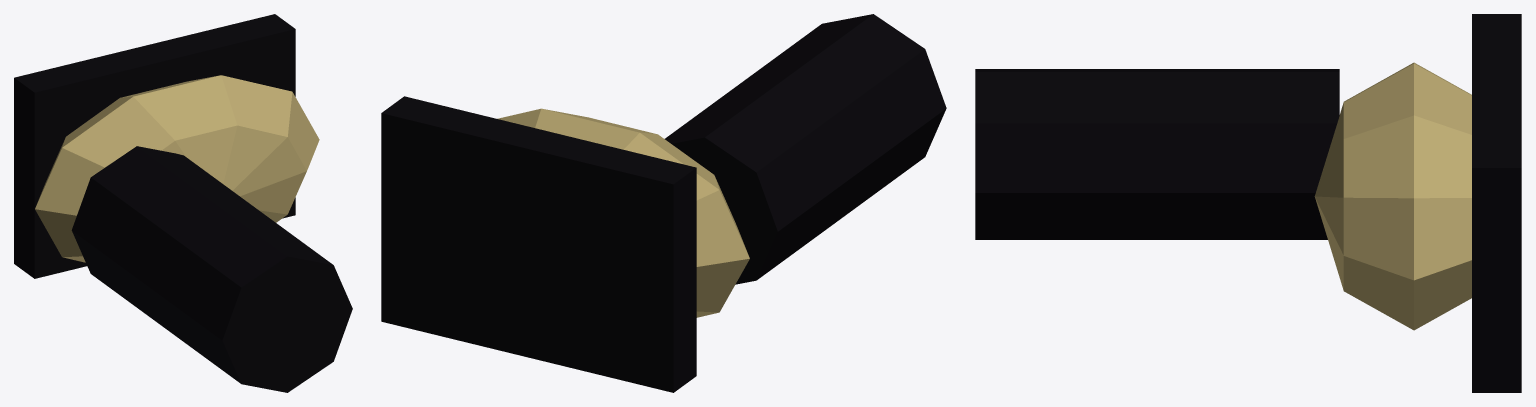
The model's file is Resident0LeftLeg.obj.
The picture shows the model from 3 angles, left to right: view 1: azimuth 30°, elevation 25°; view 2: azimuth 150°, elevation 25°; view 3: azimuth 270°, elevation 25°; orthographic projection. The views are drawn at different scales.
Parts seen in each view (by area): view 1: Resident0LeftLeg; view 2: Resident0LeftLeg; view 3: Resident0LeftLeg.
Part boxes in pixels (<box>): Resident0LeftLeg: <box>14,14,352,392</box>; Resident0LeftLeg: <box>381,14,946,392</box>; Resident0LeftLeg: <box>975,14,1521,392</box>.
Bounding box in the file's own units: 48 × 30 × 66.
